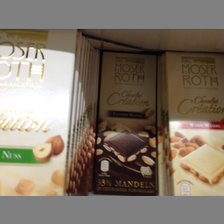chocolate: (1, 30, 77, 195), (91, 52, 159, 196), (164, 52, 224, 195)
